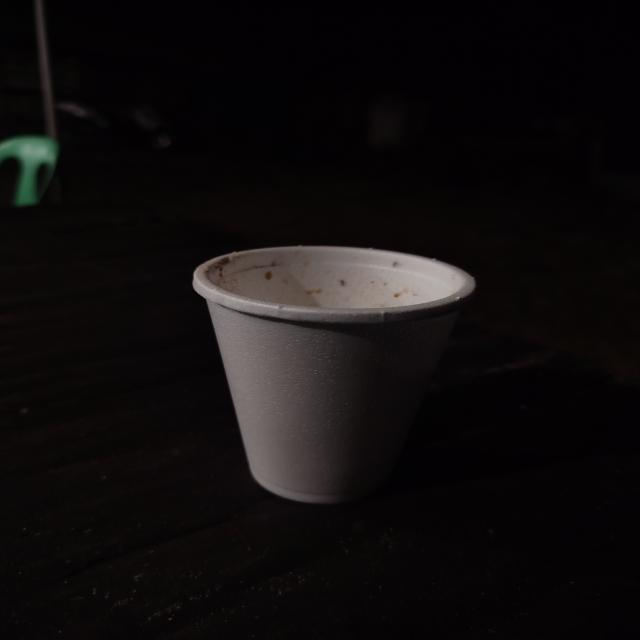plastic: (183, 227, 502, 521)
